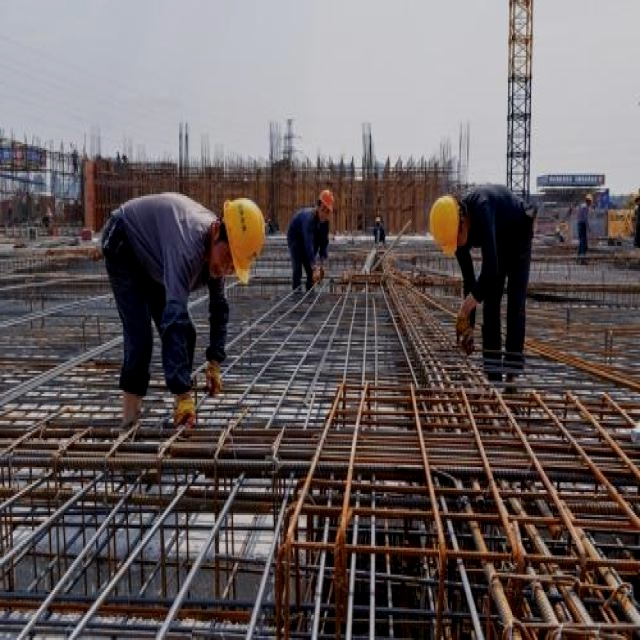Con_Casco: (214, 195, 266, 284), (428, 195, 468, 258)
